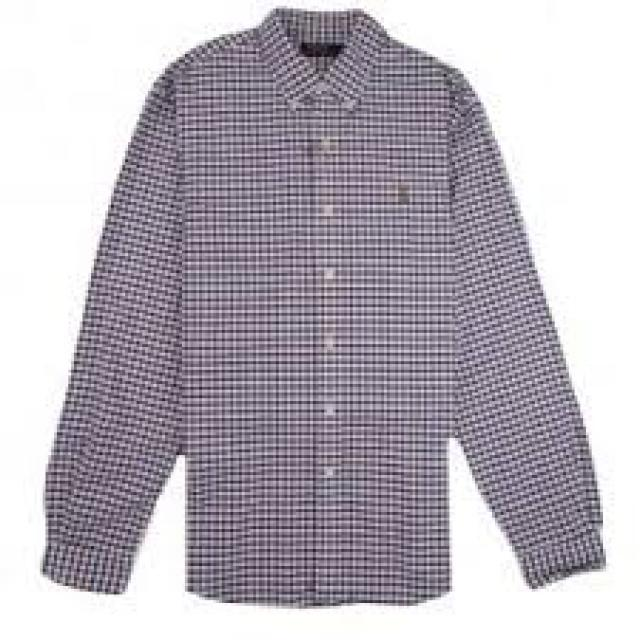plaid: (46, 0, 614, 612)
